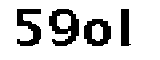5: (16, 6, 46, 50)
9: (48, 3, 82, 54)
I: (118, 5, 142, 51)
o: (79, 16, 111, 50)
